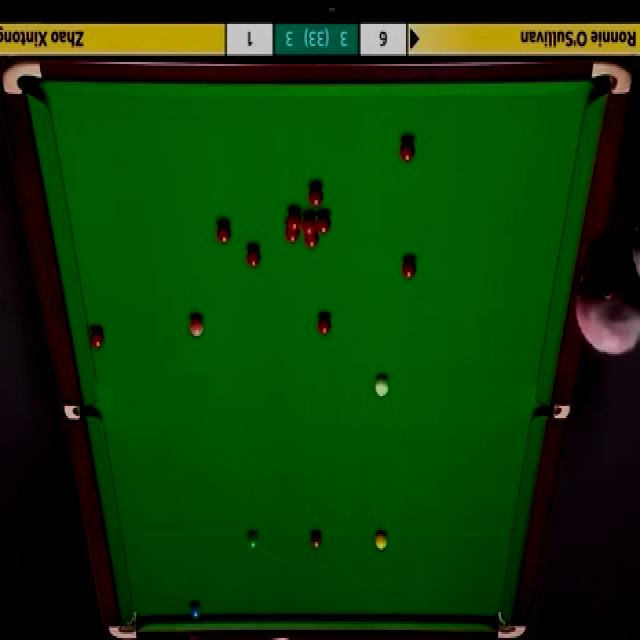pocket: (0, 56, 43, 98), (591, 57, 634, 97), (106, 608, 140, 640), (495, 611, 529, 640), (536, 403, 572, 419), (64, 405, 98, 420)
